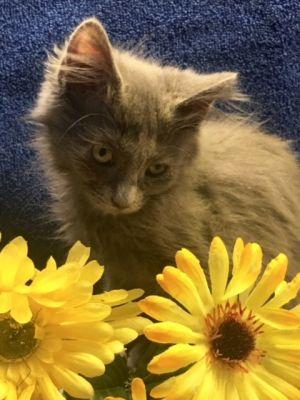rblue: (22, 14, 249, 250)
